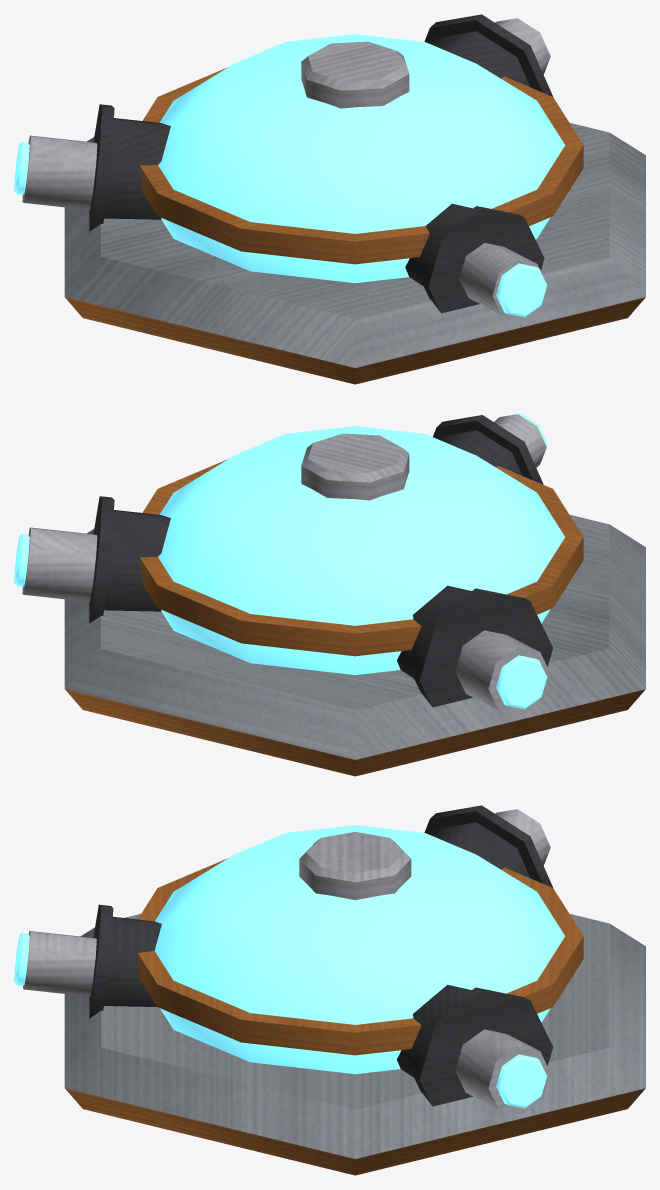
Rendered from R4D_SlowTrap.glb.
3 renders of one model, top to bottom at view 1: azimuth 30°, elevation 25°; view 2: azimuth 150°, elevation 25°; view 3: azimuth 270°, elevation 25°, orthographic.
Parts seen in each view (by area): view 1: R4D_SlowTrap_Body; view 2: R4D_SlowTrap_Body; view 3: R4D_SlowTrap_Body.
Part boxes in pixels (x1,y1,x2,y2): R4D_SlowTrap_Body: [14, 14, 645, 384]; R4D_SlowTrap_Body: [14, 413, 645, 776]; R4D_SlowTrap_Body: [14, 805, 645, 1175].
Size of the model in its own units: 0.48 by 0.15 by 0.452.
5 materials, 4 textured.
